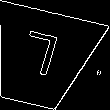L_S: (17, 30, 65, 86)
